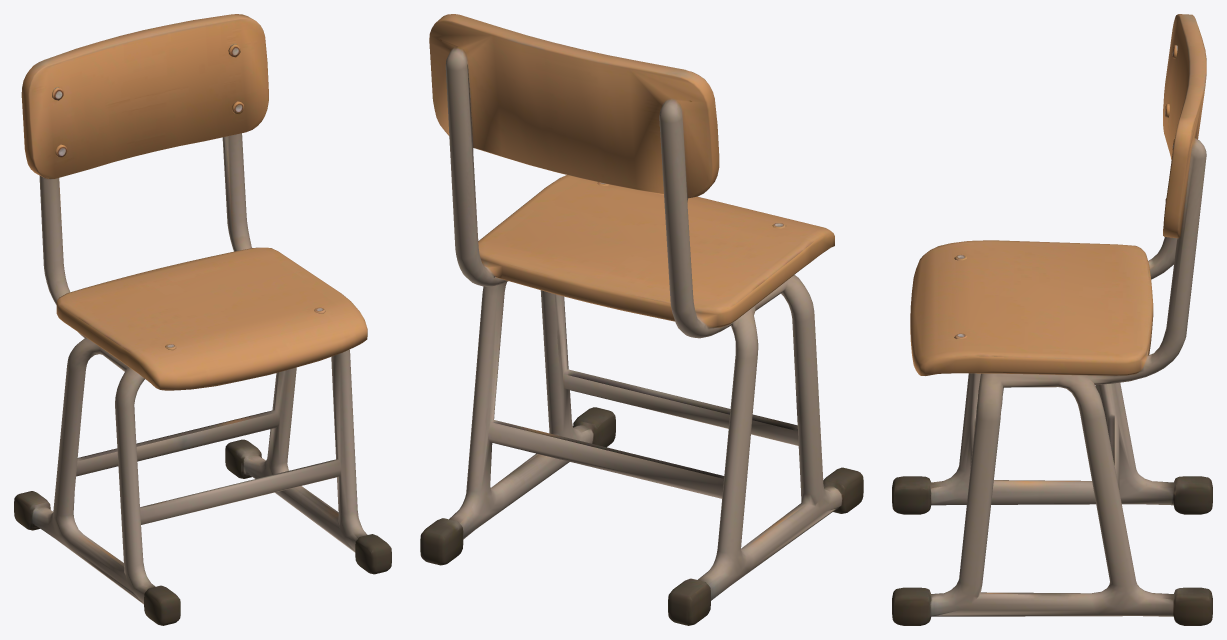
The model's file is Furniture__a_test_chair_03a8d5cc_v4.cluster.glb.
3 renders of one model, left to right at view 1: azimuth 30°, elevation 25°; view 2: azimuth 150°, elevation 25°; view 3: azimuth 270°, elevation 25°, orthographic. The views are drawn at different scales.
Visible parts, largest first — view 1: material; view 2: material; view 3: material.
Boxes of the visible parts, x1,y1,x2,y2 form: material: (14,14,391,625); material: (420,14,863,625); material: (892,14,1212,625).
Bounding box in the file's own units: 1.03 × 1.9 × 1.1.
Materials: 1 (1 with a texture image).
